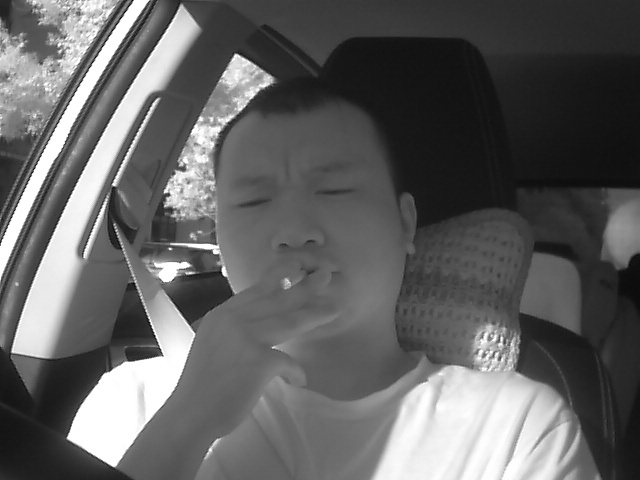hand: (198, 265, 331, 427)
